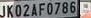character: (29, 3, 37, 17), (22, 3, 30, 16), (6, 4, 13, 18), (53, 1, 60, 15), (38, 2, 45, 15), (46, 2, 53, 15), (61, 1, 68, 14), (14, 4, 21, 16), (69, 1, 76, 13), (1, 4, 6, 18)
